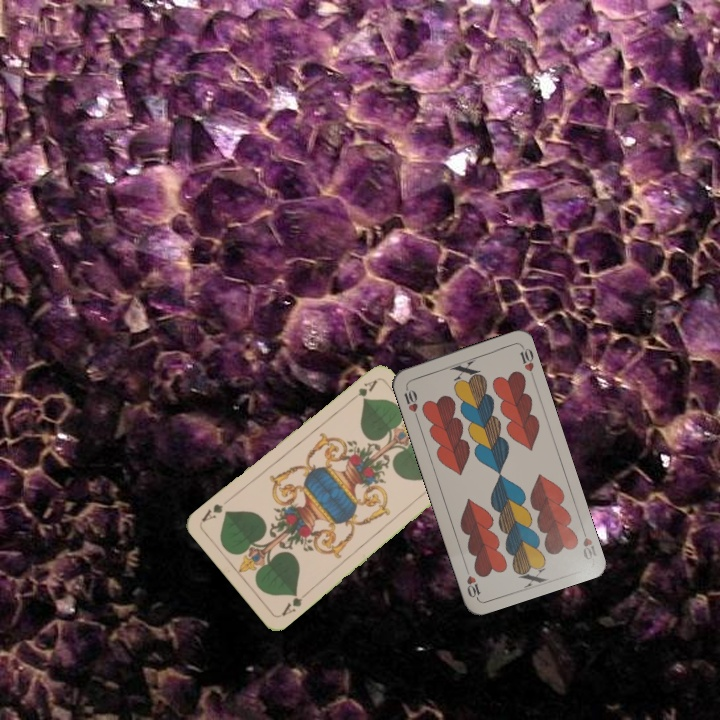GA: (277, 588, 310, 619), (345, 376, 380, 404)
H10: (577, 522, 599, 563), (400, 381, 420, 421)
